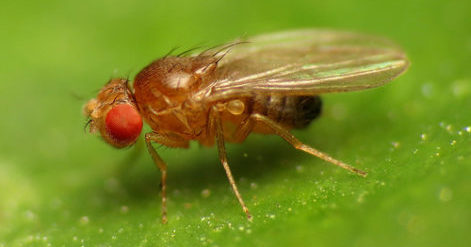Fruit fly: (88, 20, 418, 199)
